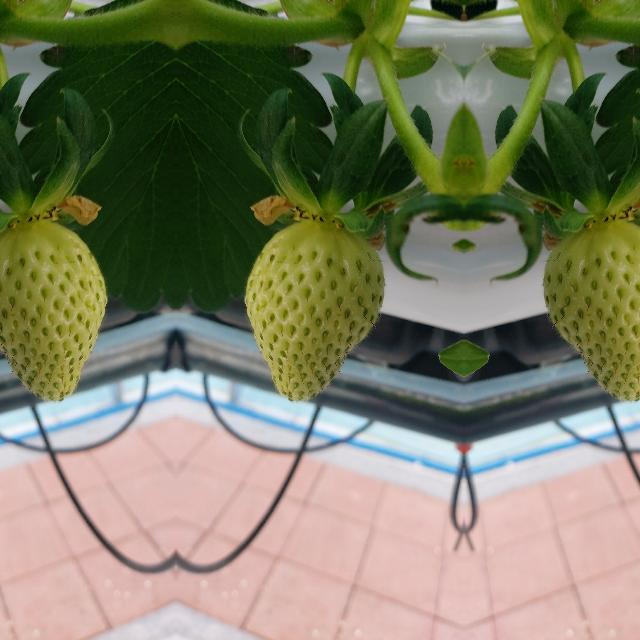Health_25: (243, 221, 385, 403), (0, 221, 107, 403), (541, 221, 640, 403)
